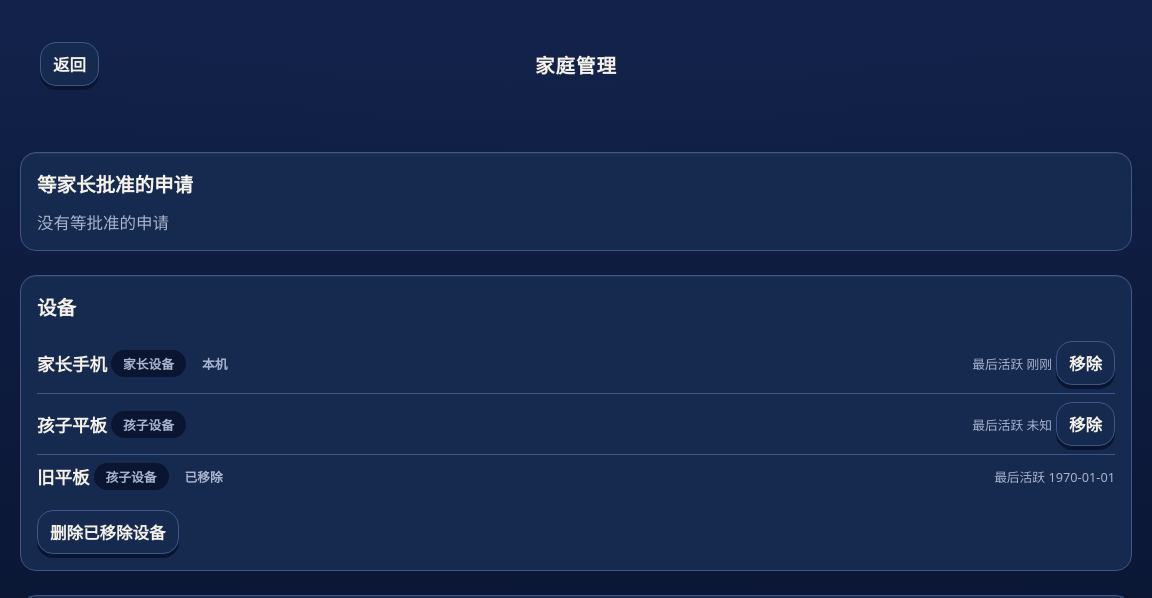
#127 设备列表 › 移除设备全流程：二次确认（断云 + 本机数据保留不擦除文案）→ 确认调 revoke → 列表刷新出已移除标签
Check: the list item with class "device-admin-row" showing "孩子平板 孩子设备 最后活跃 未知 移除" is shown, box [37,394,1115,455]
Click the button "移除" next to "最后活跃 未知" at [1086, 424], box [1056,402,1115,446]
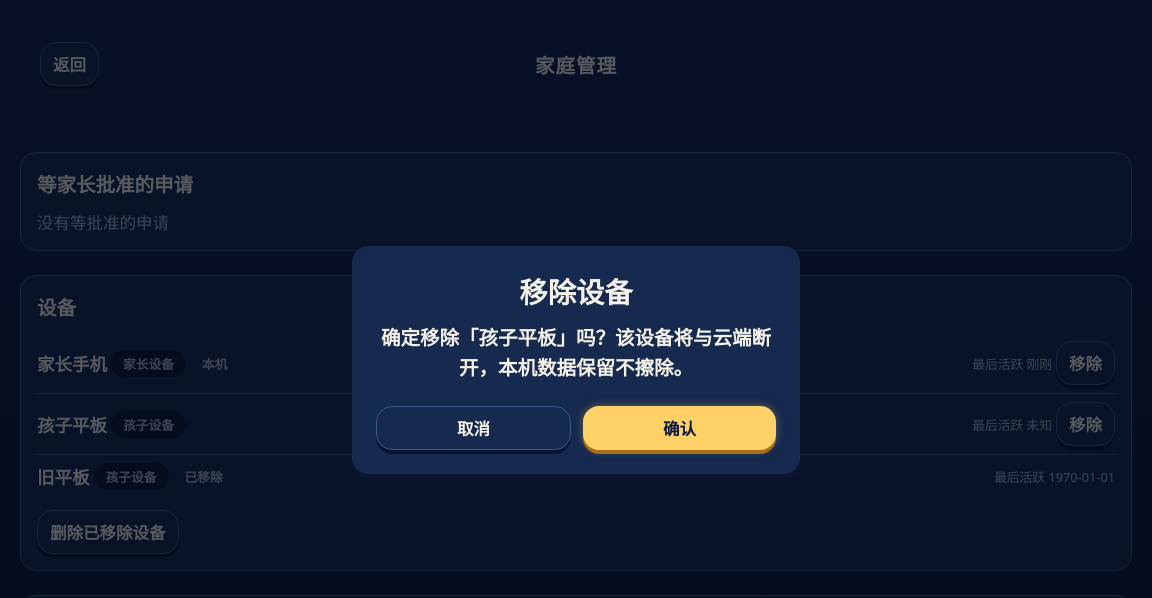
Check: the heading with class "star-modal__title" reads "移除设备", box [519,273,633,311]
Check: the dialog with class "admin-confirm-modal" shows "孩子平板", box [381,324,771,381]
Check: the dialog with class "admin-confirm-modal" shows "与云端断开", box [381,324,771,381]
Click the button "确认" at [680, 428], box [583,406,776,450]
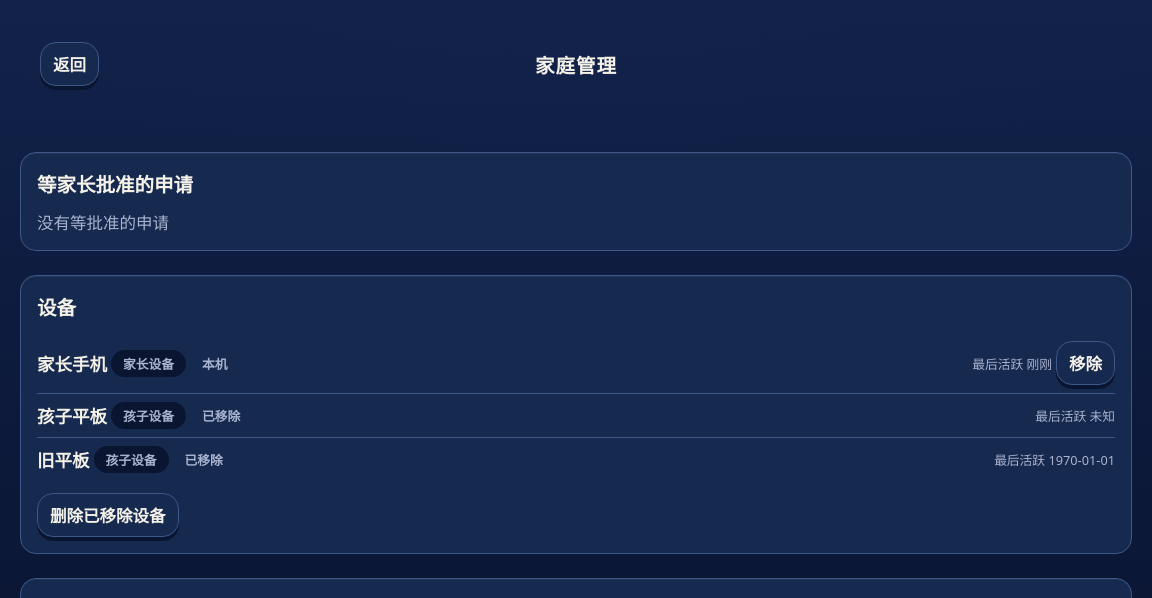
Check: the list item with class "device-admin-row" shows "已移除", box [202,407,240,425]
